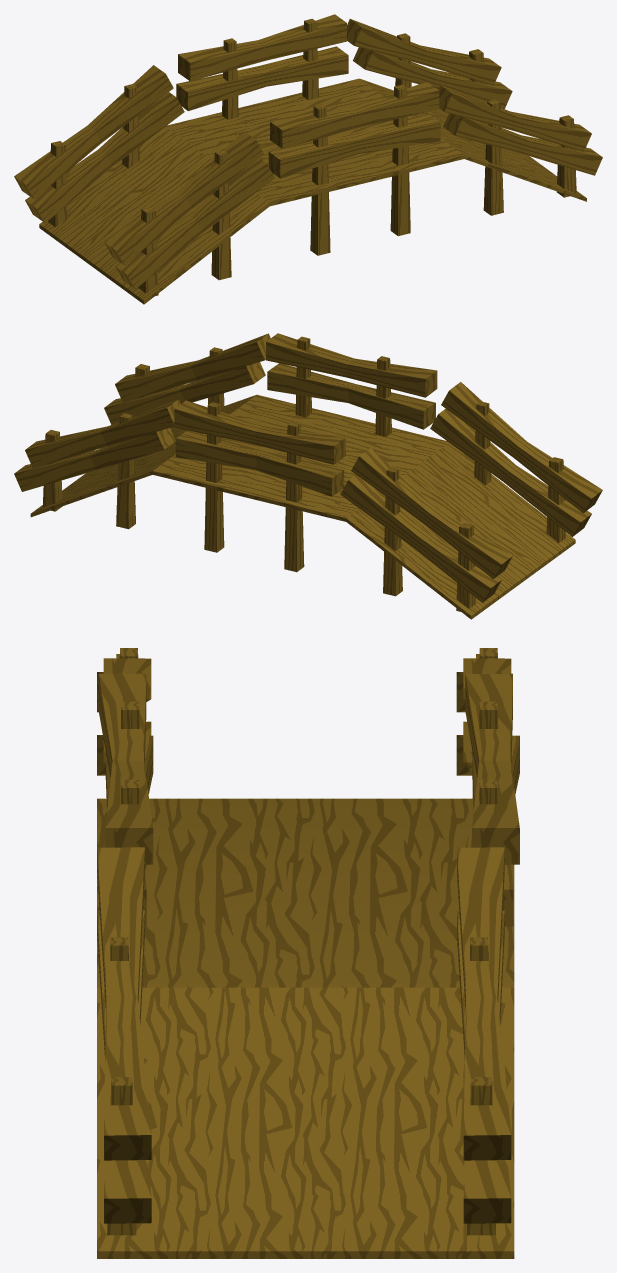
File: bridge.fbx
3 views of the same model, one above another, from view 1: azimuth 30°, elevation 25°; view 2: azimuth 150°, elevation 25°; view 3: azimuth 270°, elevation 25° (orthographic). The views are drawn at different scales.
Visible parts, largest first — view 1: polySurface27; view 2: polySurface27; view 3: polySurface27.
Part boxes in pixels (x1,y1,x2,y2): polySurface27: [14, 14, 602, 304]; polySurface27: [14, 333, 602, 619]; polySurface27: [97, 648, 519, 1258].
Bounding box in the file's own units: 472 × 140 × 178.
